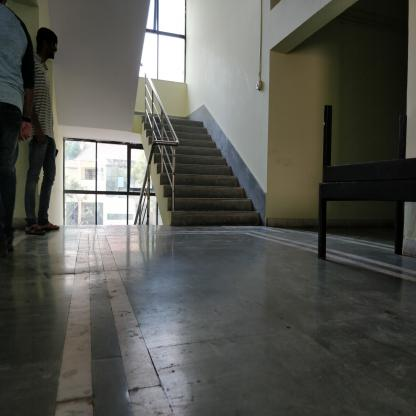stairs: (179, 149, 225, 231)
